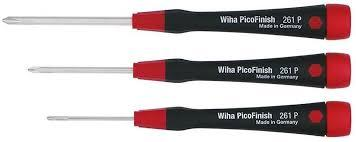screwdriver: (1, 3, 354, 39), (1, 3, 352, 39), (27, 50, 351, 89), (27, 51, 351, 89), (45, 99, 350, 137), (45, 100, 350, 138)
